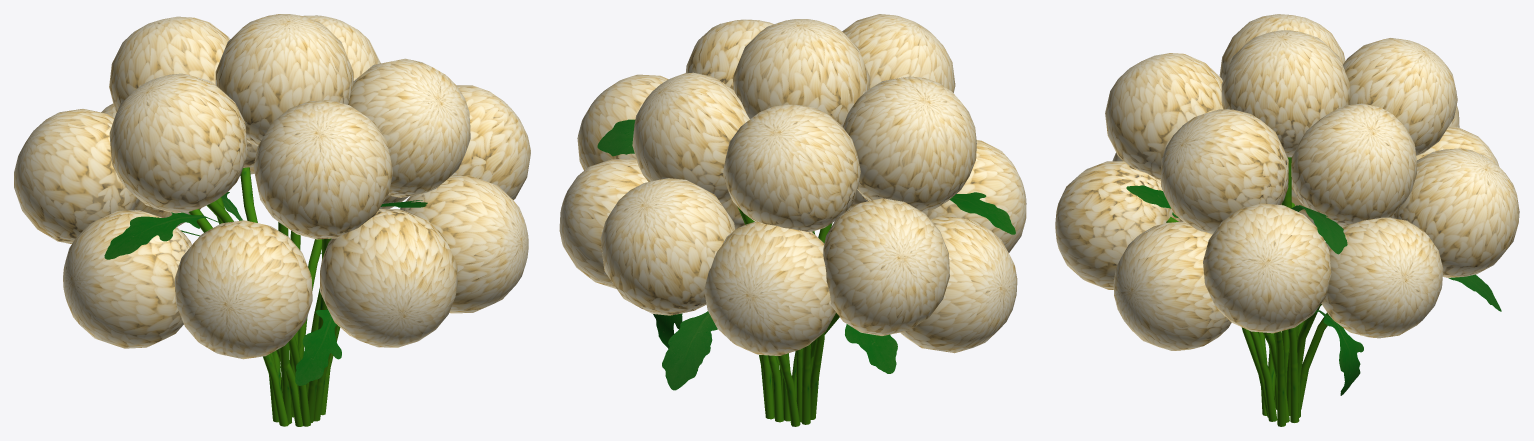
File: DecorFlowerChr01_1.FBX
3 views of the same model, side by side, from view 1: azimuth 30°, elevation 25°; view 2: azimuth 150°, elevation 25°; view 3: azimuth 270°, elevation 25° (orthographic). The views are drawn at different scales.
Visible parts, largest first — view 1: DecorFlowerChr01_1; view 2: DecorFlowerChr01_1; view 3: DecorFlowerChr01_1.
Part boxes in pixels (box(x1,y1,x2,y2)): DecorFlowerChr01_1: box(14, 14, 530, 426); DecorFlowerChr01_1: box(559, 14, 1026, 426); DecorFlowerChr01_1: box(1055, 14, 1519, 426).
Size of what is drawn, in the model's own units: 0.5759 by 0.5026 by 0.5688.
